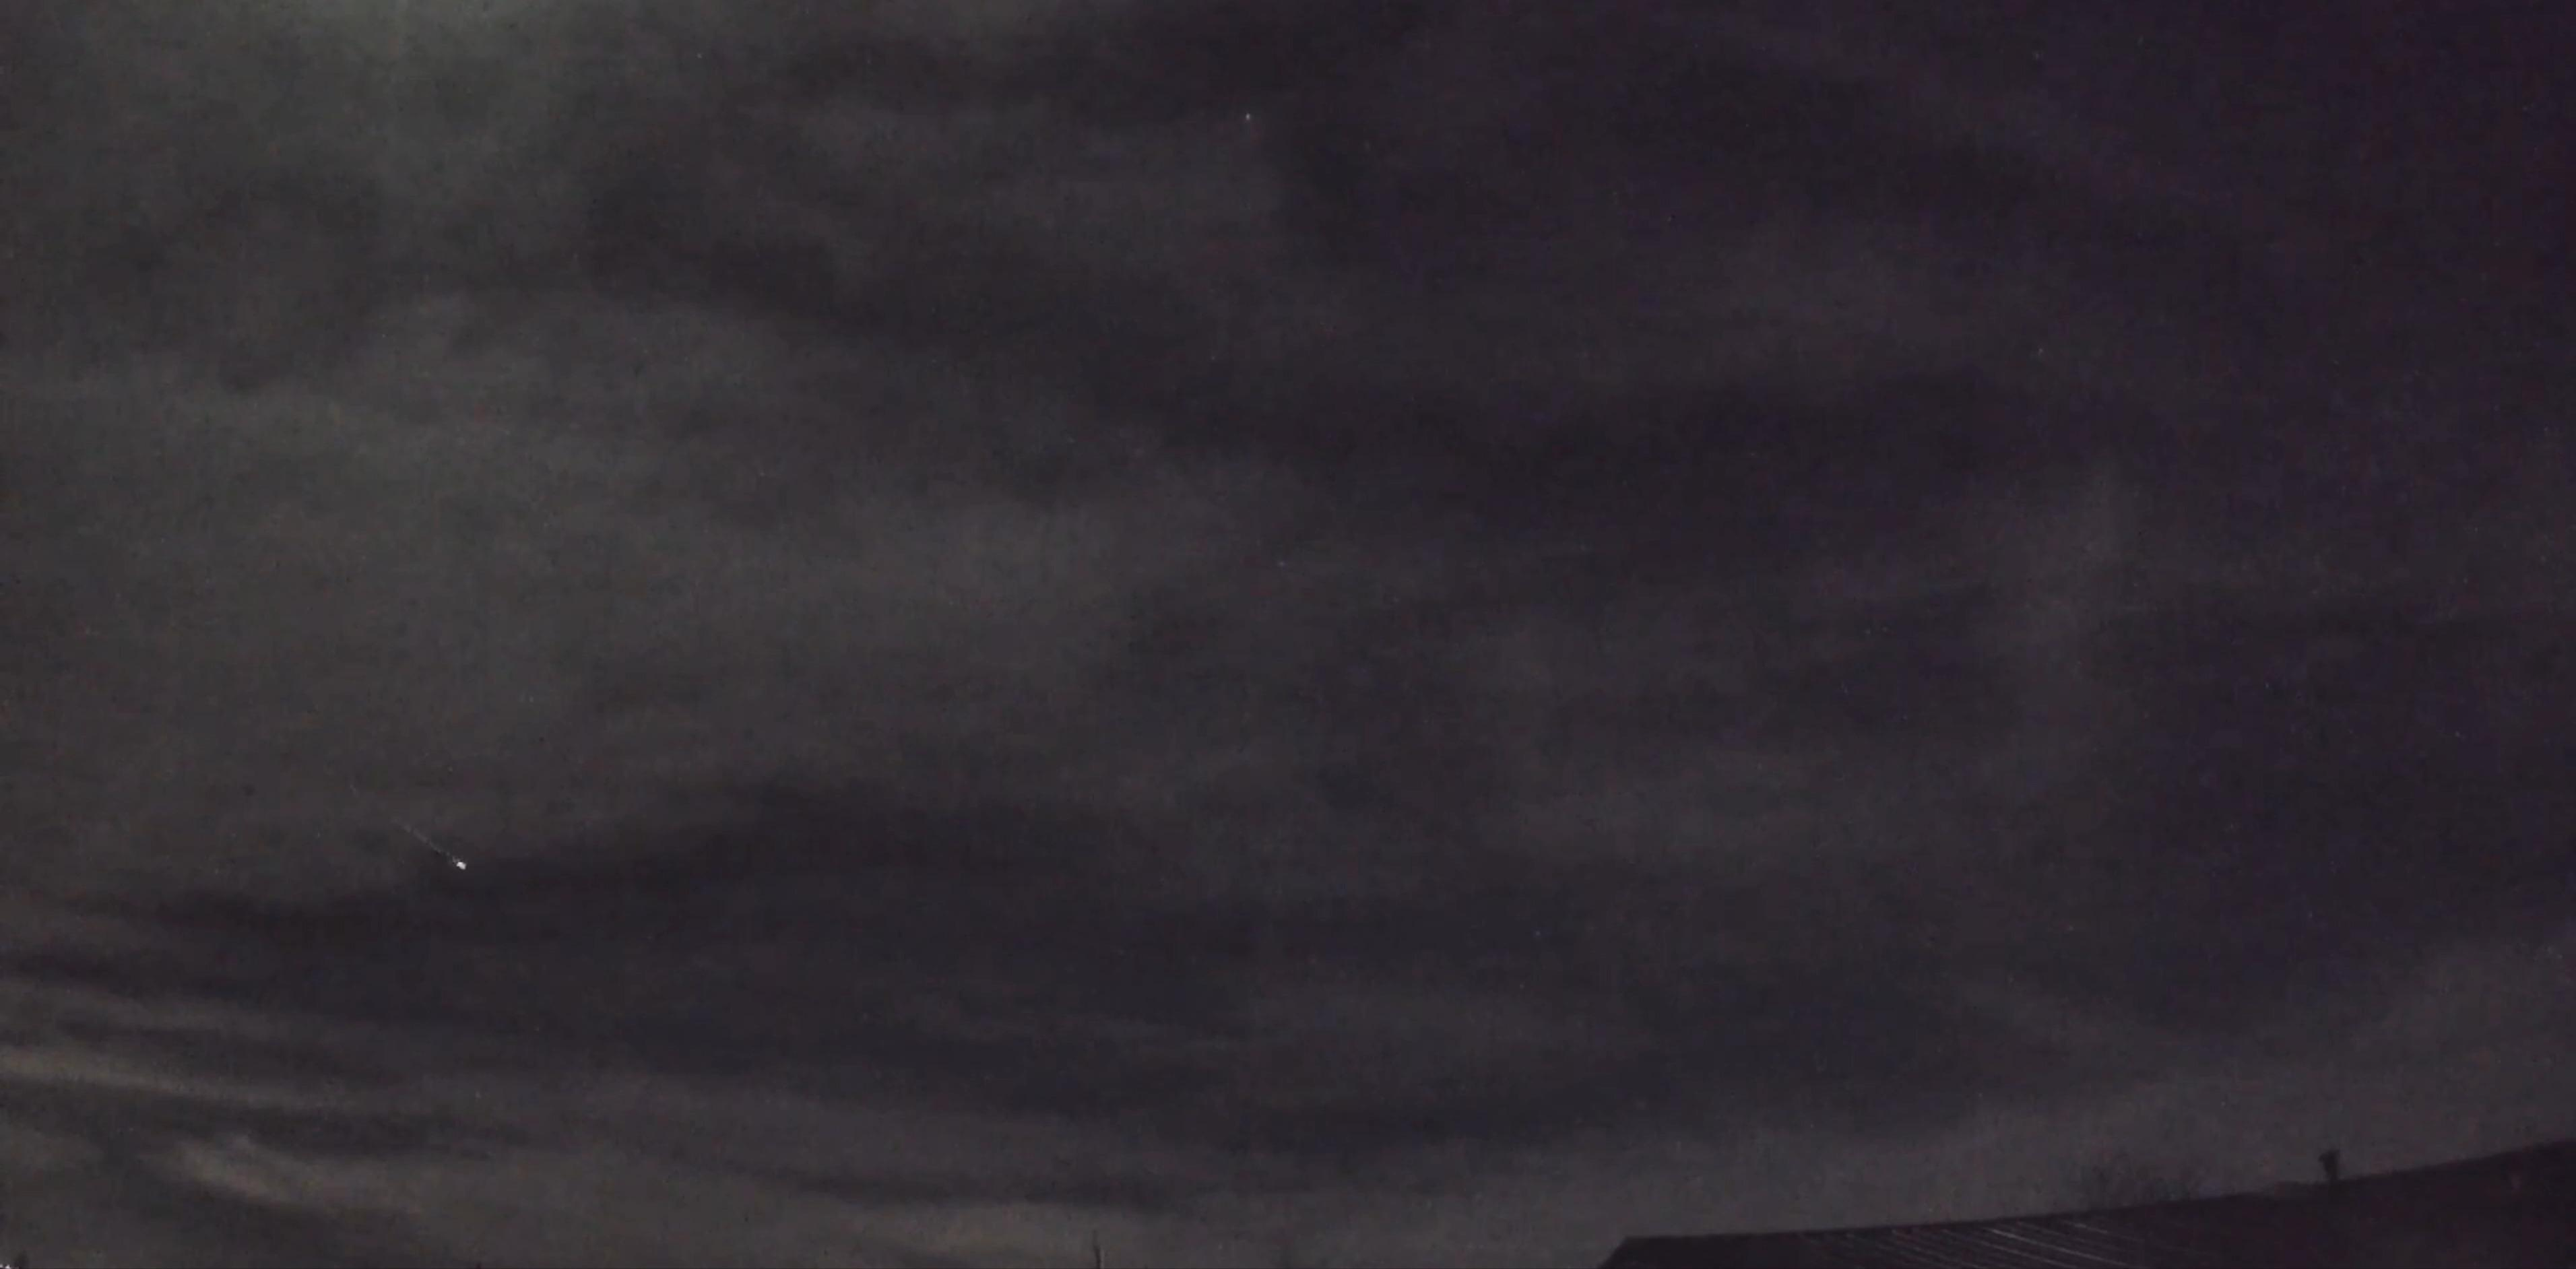meteorite: (348, 785, 486, 875)
